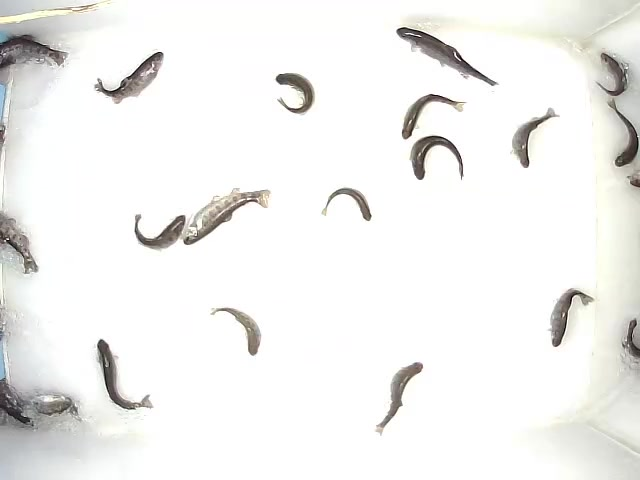fish: (394, 23, 501, 91), (180, 184, 274, 247), (94, 336, 157, 414), (91, 49, 167, 107), (373, 360, 424, 436), (399, 92, 465, 141), (546, 286, 597, 347), (511, 107, 560, 169), (211, 302, 263, 357), (407, 134, 465, 181), (604, 97, 640, 168), (132, 211, 190, 251), (271, 69, 318, 117), (321, 187, 372, 223), (591, 49, 627, 98)
